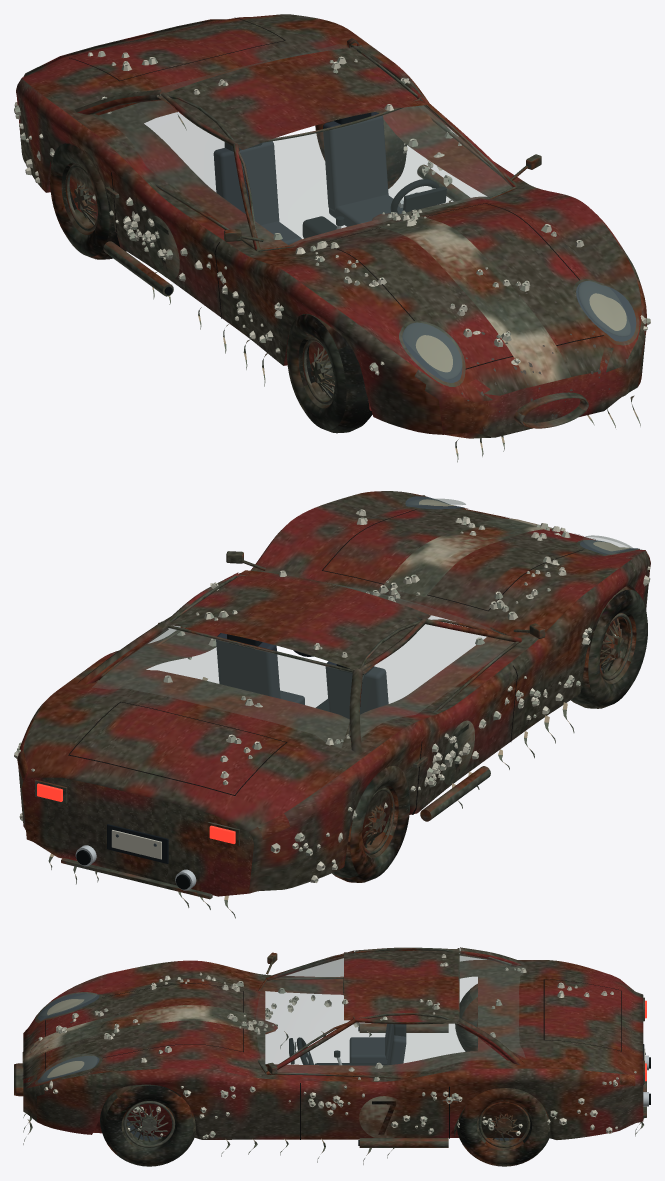
File: sea-wreck.glb
3 views of the same model, one above another, from view 1: azimuth 30°, elevation 25°; view 2: azimuth 150°, elevation 25°; view 3: azimuth 270°, elevation 25° (orthographic). The views are drawn at different scales.
Parts seen in each view (by area): view 1: Lacquered body, Glass, Cabin fabric, White livery, Sea wreck / barnacles shells and dried weed, Dull chrome.004, Tire rubber.001, Tire rubber.003, Glass lamp covers, Dark machined metal.005, Headlamp lenses, Carbon and trim (+5 smaller); view 2: Lacquered body, Glass, Sea wreck / barnacles shells and dried weed, Dull chrome.004, Cabin fabric, White livery, Tire rubber.001, Tire rubber.003, Panel gaps, Dull chrome.001, Carbon and trim, Dull chrome.003 (+4 smaller); view 3: Lacquered body, Glass, White livery, Tire rubber, Sea wreck / barnacles shells and dried weed, Dull chrome.004, Tire rubber.002, Cabin fabric, Glass lamp covers, Dull chrome, Dark machined metal.005, Tire rubber.003 (+5 smaller).
Boxes of the visible parts, x1,y1,x2,y2 form: Lacquered body: (16, 14, 646, 438); Glass: (99, 44, 512, 248); Cabin fabric: (213, 112, 402, 244); White livery: (144, 215, 570, 387); Sea wreck / barnacles shells and dried weed: (14, 51, 650, 462); Dull chrome.004: (103, 44, 588, 428); Tire rubber.001: (287, 314, 372, 433); Tire rubber.003: (50, 143, 126, 259); Glass lamp covers: (402, 280, 630, 379); Dark machined metal.005: (402, 281, 636, 382); Headlamp lenses: (415, 293, 626, 372); Carbon and trim: (224, 112, 446, 238); Lacquered body: (17, 491, 650, 896); Glass: (92, 582, 514, 747); Sea wreck / barnacles shells and dried weed: (14, 495, 650, 918); Dull chrome.004: (35, 551, 545, 899); Cabin fabric: (216, 633, 388, 718); White livery: (383, 518, 552, 784); Tire rubber.001: (571, 585, 647, 708); Tire rubber.003: (332, 766, 410, 882); Panel gaps: (68, 509, 583, 814); Dull chrome.001: (599, 613, 632, 680); Carbon and trim: (107, 634, 374, 863); Dull chrome.003: (362, 788, 394, 854); Lacquered body: (23, 947, 643, 1139); Glass: (256, 950, 525, 1072); White livery: (22, 1005, 408, 1137); Tire rubber: (100, 1084, 195, 1166); Sea wreck / barnacles shells and dried weed: (23, 954, 644, 1164); Dull chrome.004: (14, 947, 646, 1147); Tire rubber.002: (457, 1088, 550, 1166); Cabin fabric: (349, 1024, 406, 1065); Glass lamp covers: (40, 993, 97, 1080); Dull chrome: (123, 1101, 175, 1147); Dark machined metal.005: (38, 993, 99, 1082); Tire rubber.003: (455, 983, 477, 1051).
Size of the model in its own units: 1.96 by 1.05 by 4.45.
Materials: 23 (5 with a texture image).
